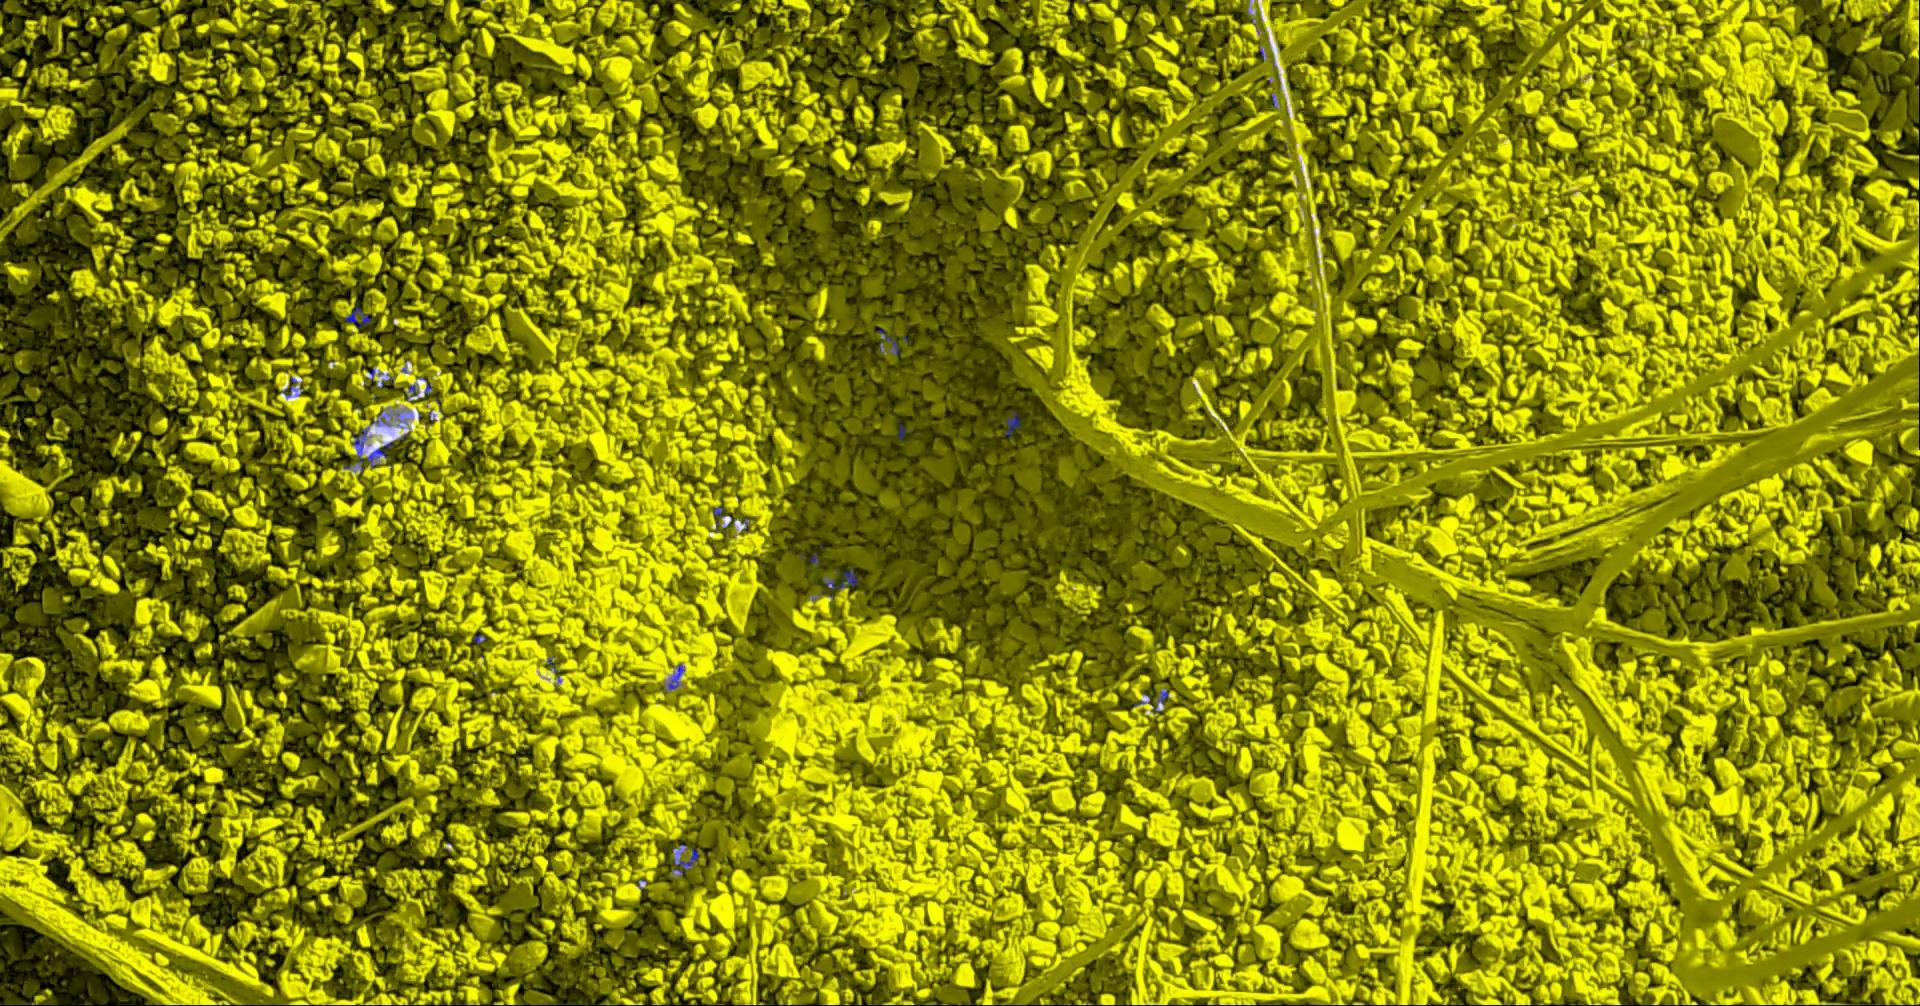ant: (350, 427, 396, 471), (822, 567, 858, 589), (673, 847, 698, 875), (343, 305, 371, 329), (667, 664, 684, 688), (1150, 690, 1167, 713), (1004, 412, 1020, 434), (881, 335, 898, 354)
